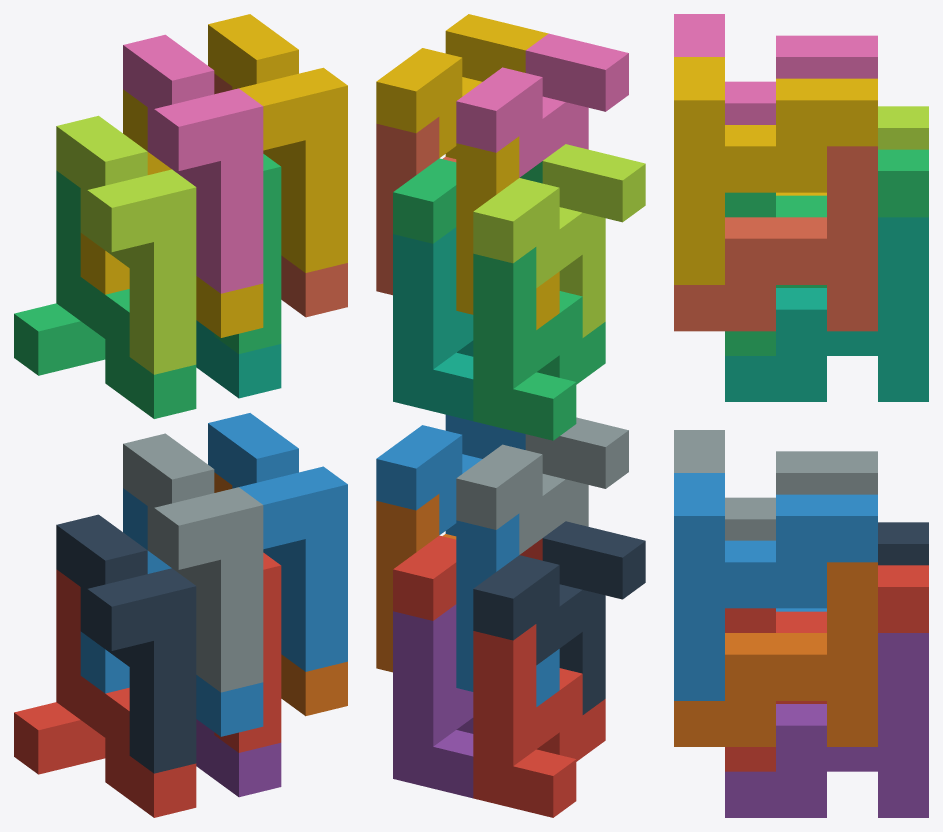
File: tiling.obj
3 renders of one model, left to right at view 1: azimuth 30°, elevation 25°; view 2: azimuth 150°, elevation 25°; view 3: azimuth 270°, elevation 25°, orthographic. The views are drawn at different scales.
Visible parts, largest first — view 1: copy_2_domain_4, copy_2_domain_2, copy_2_domain_3, copy_2_domain_1, copy_2_domain_6, copy_2_domain_8, copy_1_domain_1, copy_1_domain_3, copy_1_domain_2, copy_1_domain_4, copy_2_domain_5, copy_2_domain_7 (+4 smaller); view 2: copy_1_domain_3, copy_1_domain_1, copy_2_domain_1, copy_2_domain_3, copy_2_domain_4, copy_2_domain_2, copy_1_domain_7, copy_1_domain_5, copy_2_domain_8, copy_2_domain_6, copy_1_domain_4, copy_1_domain_2 (+4 smaller); view 3: copy_2_domain_6, copy_2_domain_8, copy_1_domain_8, copy_1_domain_6, copy_1_domain_5, copy_1_domain_7, copy_2_domain_2, copy_2_domain_4, copy_2_domain_7, copy_2_domain_5, copy_2_domain_1, copy_2_domain_3.
Boxes of the visible parts, x1,y1,x2,y2 form: copy_2_domain_4: (123,34,263,293); copy_2_domain_2: (123,433,263,692); copy_2_domain_3: (56,115,196,374); copy_2_domain_1: (56,514,196,773); copy_2_domain_6: (208,413,347,671); copy_2_domain_8: (208,14,347,272); copy_1_domain_1: (14,569,196,817); copy_1_domain_3: (14,170,196,418); copy_1_domain_2: (80,488,263,736); copy_1_domain_4: (80,89,263,337); copy_2_domain_5: (214,552,281,752); copy_2_domain_7: (214,154,281,353); copy_1_domain_3: (473,247,605,440); copy_1_domain_1: (473,624,605,817); copy_2_domain_1: (473,521,645,714); copy_2_domain_3: (473,144,645,337); copy_2_domain_4: (456,33,628,177); copy_2_domain_2: (456,417,628,554); copy_1_domain_7: (393,227,473,420); copy_1_domain_5: (393,604,473,798); copy_2_domain_8: (376,14,548,158); copy_2_domain_6: (376,414,525,536); copy_1_domain_4: (456,136,559,329); copy_1_domain_2: (456,513,559,706); copy_2_domain_6: (674,473,877,700); copy_2_domain_8: (674,57,877,284); copy_1_domain_8: (674,146,877,331); copy_1_domain_6: (674,562,877,746); copy_1_domain_5: (725,633,928,817); copy_1_domain_7: (725,217,928,401); copy_2_domain_2: (674,430,877,540); copy_2_domain_4: (674,14,877,124); copy_2_domain_7: (725,149,928,355); copy_2_domain_5: (725,565,928,771); copy_2_domain_1: (878,522,928,565); copy_2_domain_3: (878,106,928,149).
Size of the model in its own units: 5 by 16 by 5.
